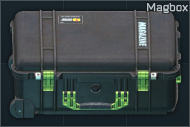Magazine case: (0, 0, 190, 127)
